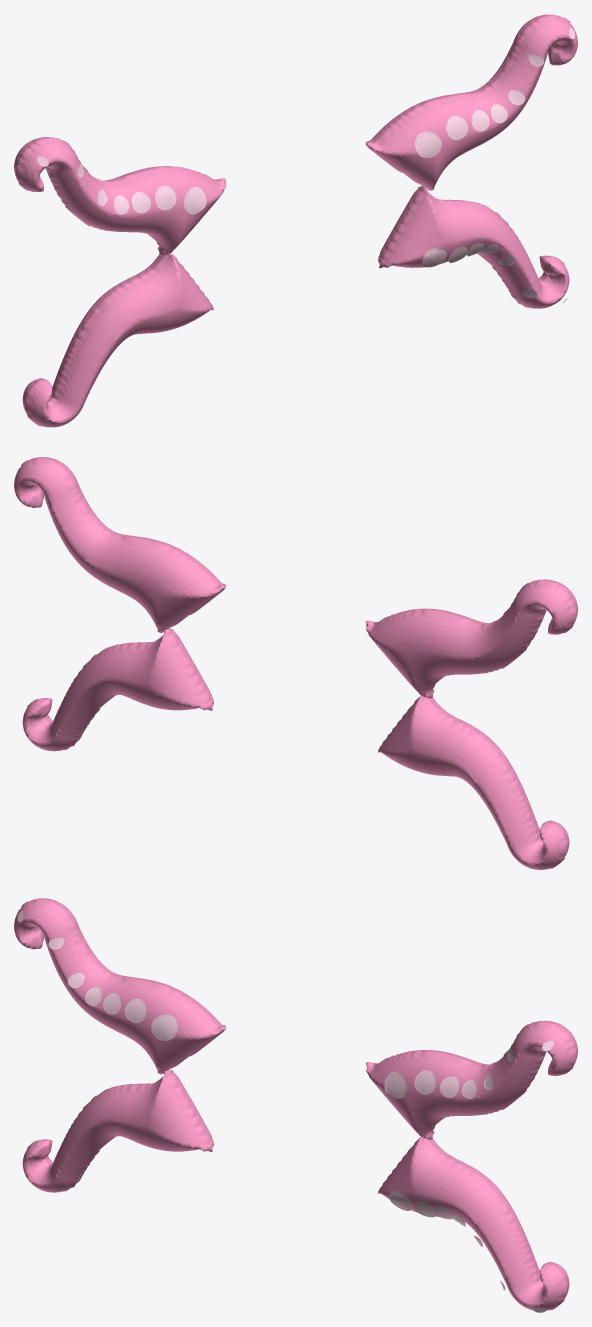
File: tentacle.glb
3 renders of one model, top to bottom at view 1: azimuth 30°, elevation 25°; view 2: azimuth 150°, elevation 25°; view 3: azimuth 330°, elevation 25°, orthographic.
Visible parts, largest first — view 1: tentacle_-101_solid, tentacle_-102_solid, tentacle_-100_solid, tentacle_-103_solid, tentacle_-118_mark; view 2: tentacle_-102_solid, tentacle_-100_solid, tentacle_-101_solid, tentacle_-103_solid; view 3: tentacle_-100_solid, tentacle_-103_solid, tentacle_-101_solid, tentacle_-102_solid, tentacle_-104_mark.
Part boxes in pixels (bbox=[...]): tentacle_-101_solid: bbox=[22, 253, 213, 427]; tentacle_-102_solid: bbox=[365, 14, 577, 190]; tentacle_-100_solid: bbox=[14, 137, 226, 255]; tentacle_-103_solid: bbox=[378, 185, 569, 308]; tentacle_-118_mark: bbox=[415, 131, 441, 157]; tentacle_-102_solid: bbox=[14, 457, 226, 633]; tentacle_-100_solid: bbox=[365, 579, 577, 698]; tentacle_-101_solid: bbox=[378, 695, 569, 869]; tentacle_-103_solid: bbox=[22, 628, 213, 751]; tentacle_-100_solid: bbox=[14, 898, 225, 1074]; tentacle_-103_solid: bbox=[378, 1137, 569, 1310]; tentacle_-101_solid: bbox=[22, 1070, 213, 1192]; tentacle_-102_solid: bbox=[365, 1020, 577, 1139]; tentacle_-104_mark: bbox=[151, 1014, 177, 1040].
Size of the model in its own units: 0.6525 by 0.3222 by 0.069.
